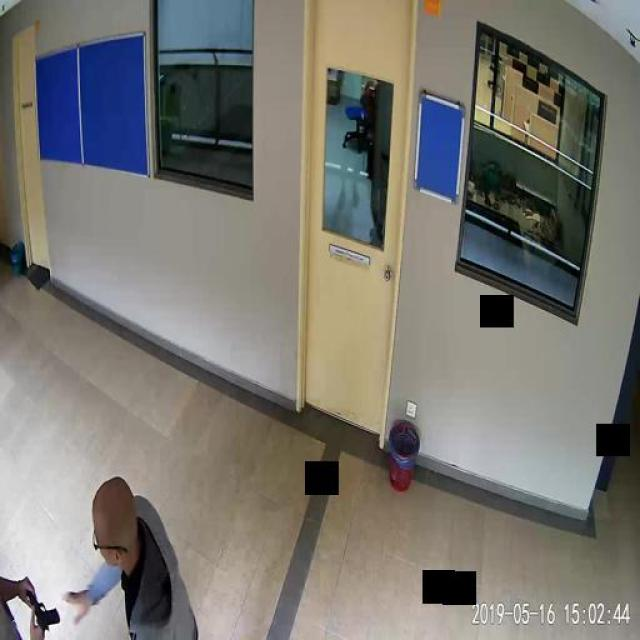gun: (23, 581, 58, 629)
